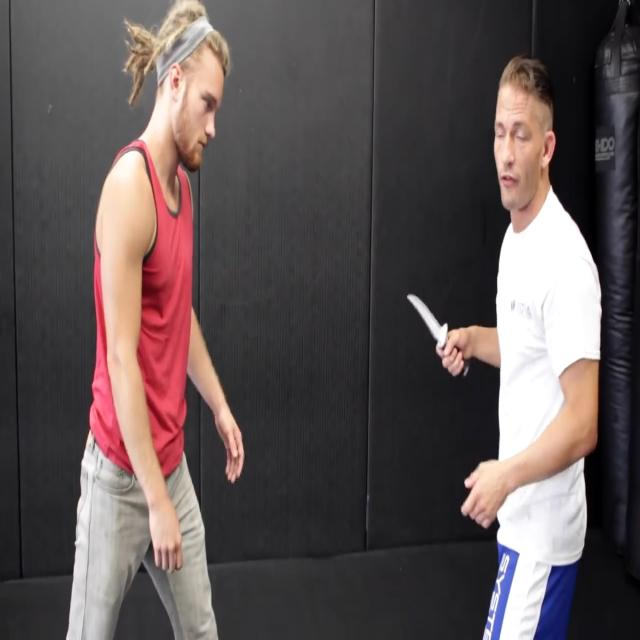knife: (406, 291, 473, 384)
